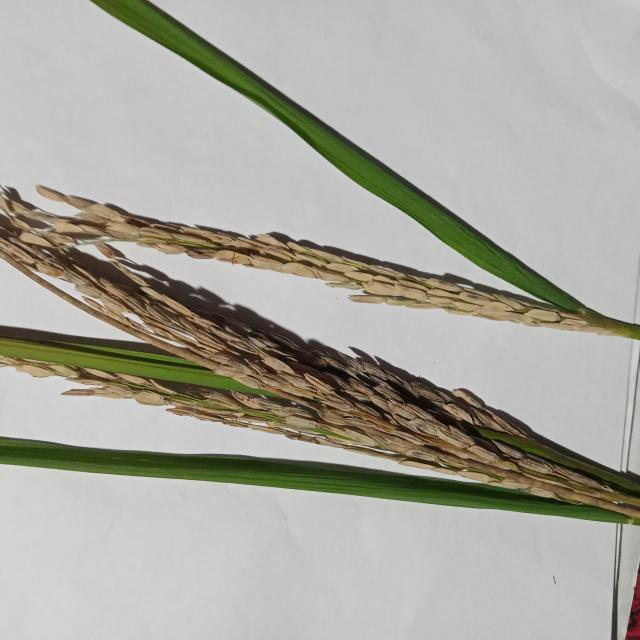Neck_Blast: (0, 183, 640, 530)
